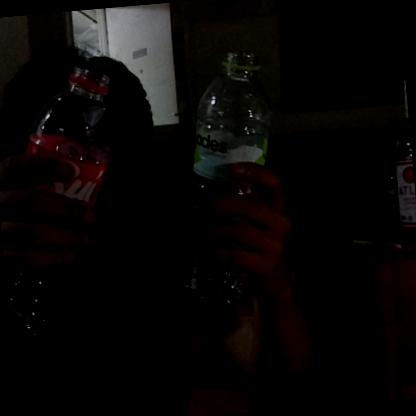plastic_bottles: (0, 63, 132, 338), (156, 47, 288, 316)
